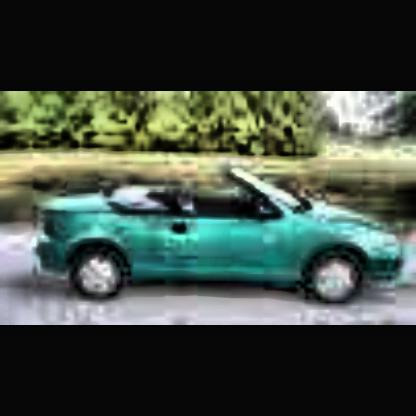Geo Metro Convertible 1993: (50, 169, 412, 313)
